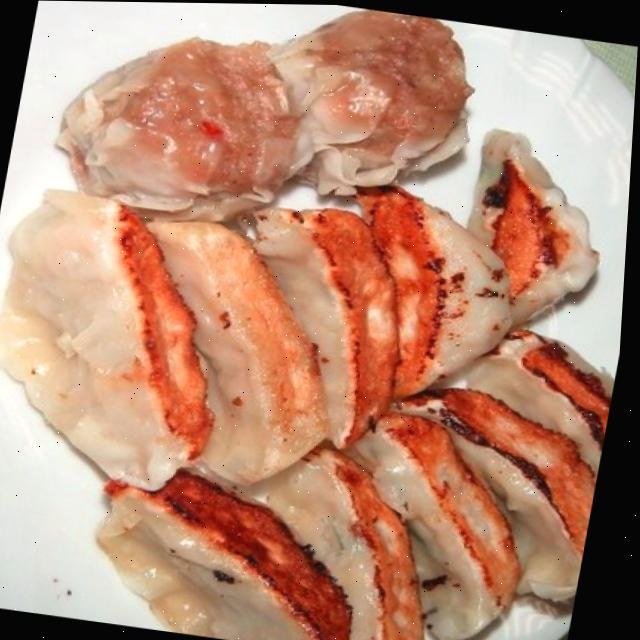带馅早点: (0, 150, 633, 640)
